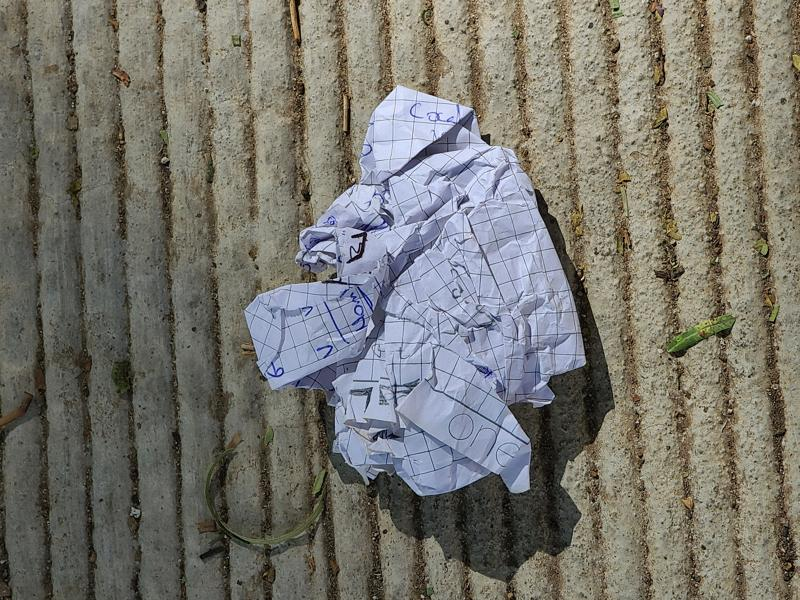papel: (243, 87, 610, 506)
